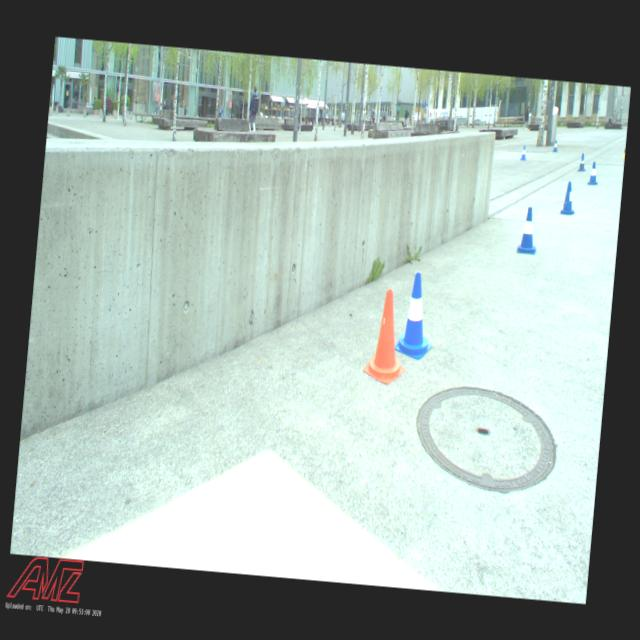blue_cone: (394, 270, 438, 360), (516, 206, 540, 255), (558, 180, 578, 216), (587, 160, 599, 184), (577, 152, 586, 170), (520, 145, 526, 160), (552, 140, 558, 152)
orange_cone: (361, 287, 412, 385)
